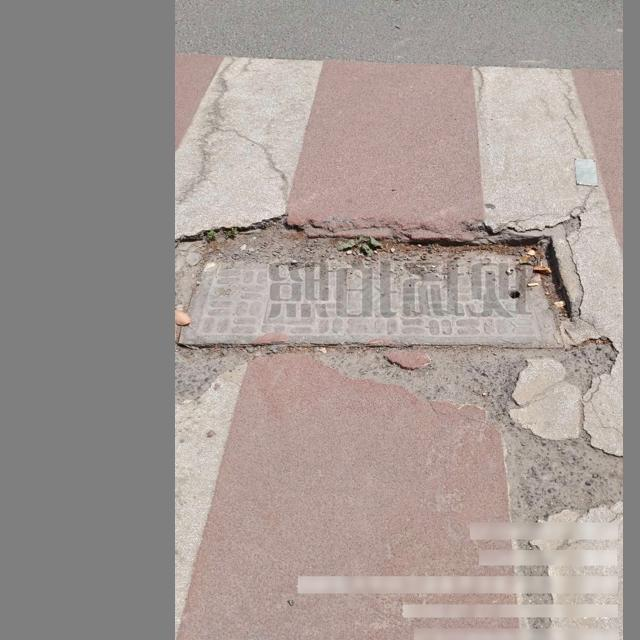circle: (175, 228, 587, 355)
